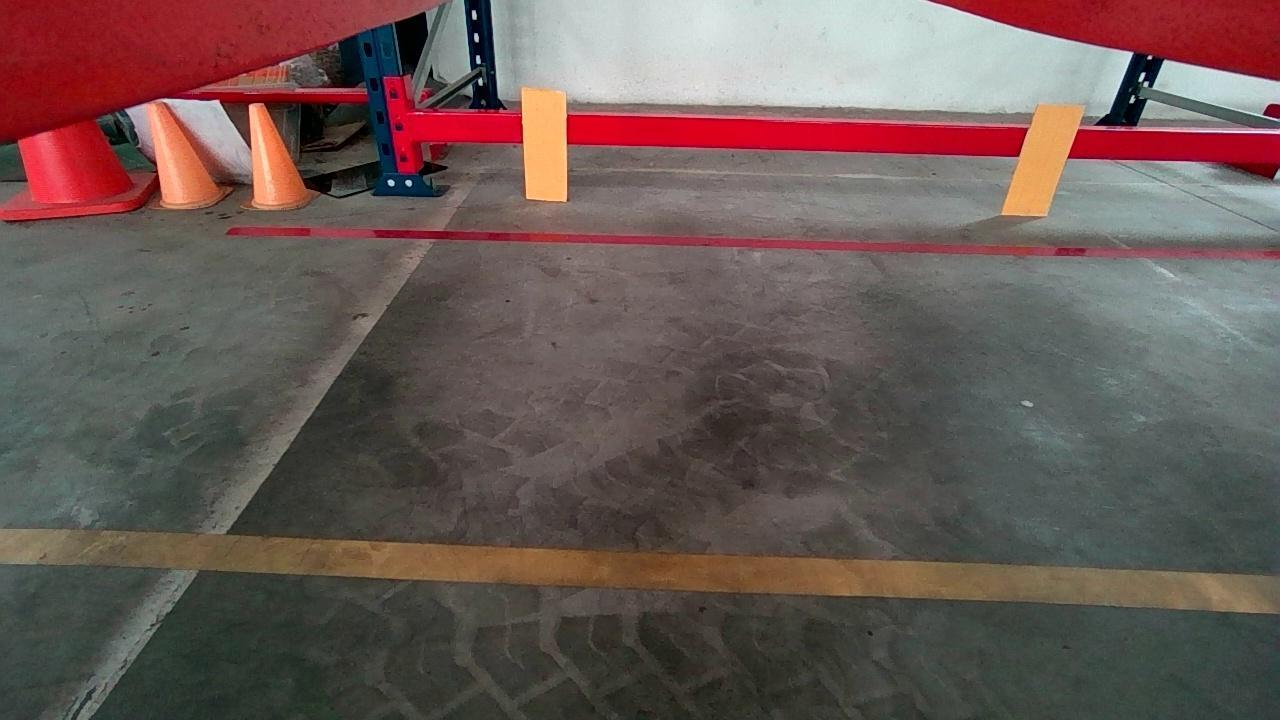h_rack: (410, 113, 1280, 161)
orange_strip: (1001, 105, 1086, 216), (524, 89, 566, 199)
red_line: (223, 223, 1280, 259)
yellow_line: (1, 529, 1280, 612)
